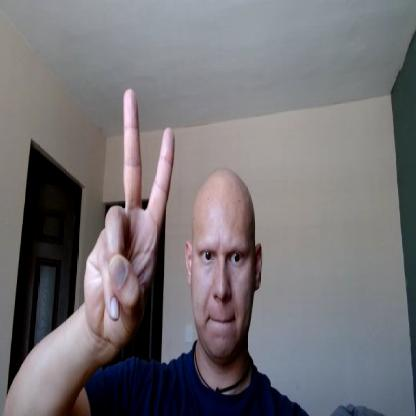V: (84, 86, 175, 344)
